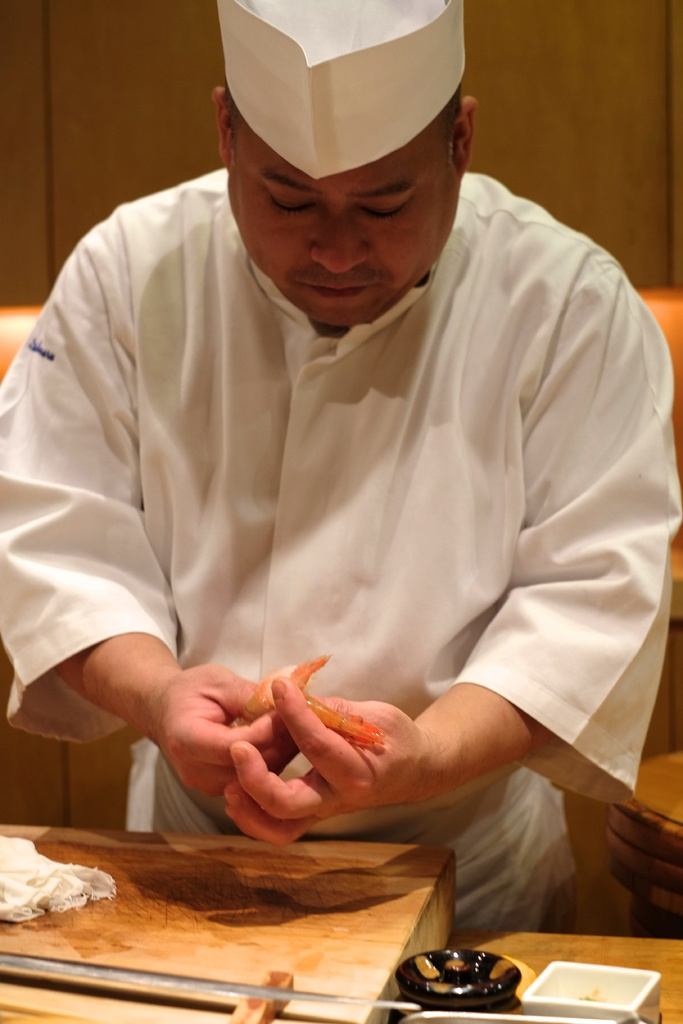Human_hand: (221, 677, 418, 849), (156, 661, 297, 800)
